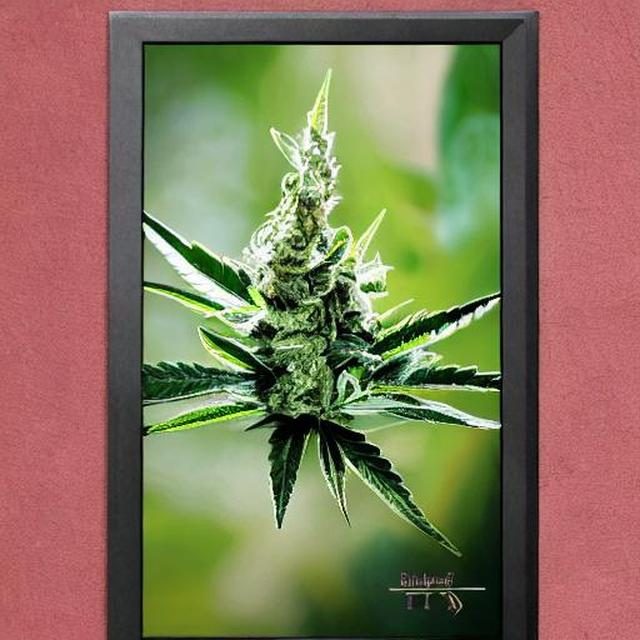Marijuana Joint: (132, 63, 520, 512)
